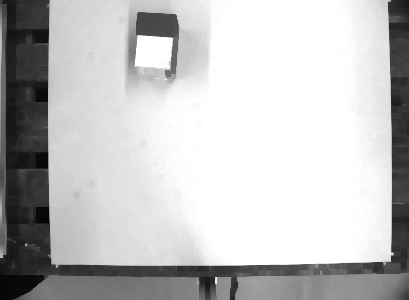b4: (130, 8, 179, 83)
